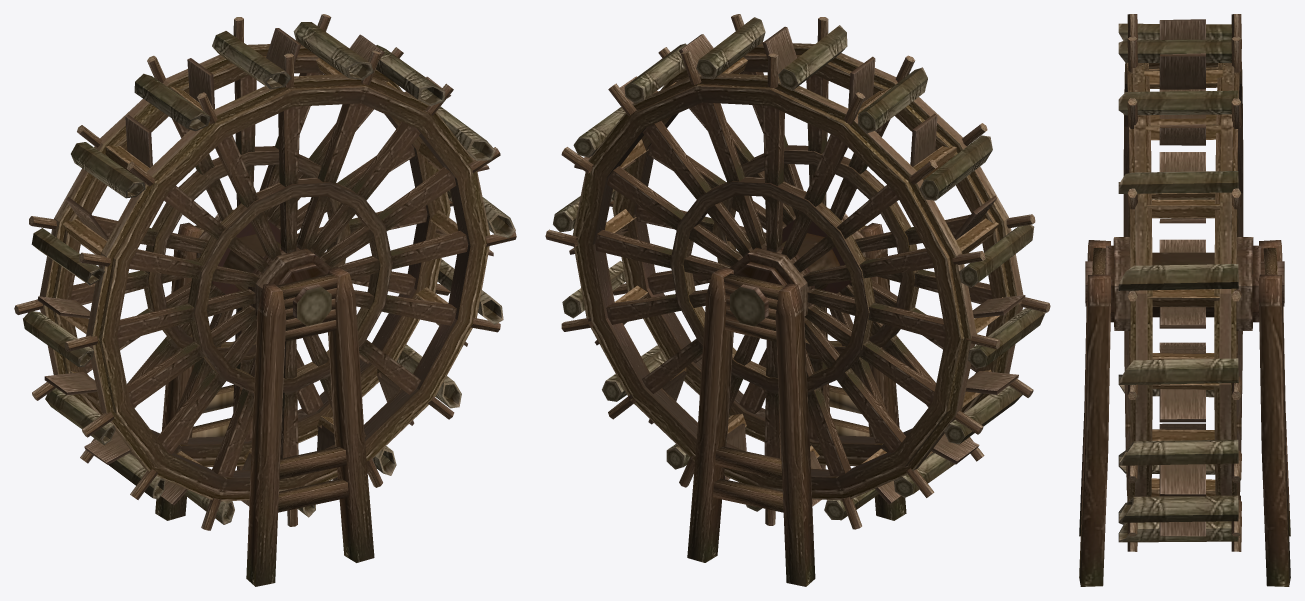
File: C5_WaterWagon_ani.FBX
3 renders of one model, left to right at view 1: azimuth 30°, elevation 25°; view 2: azimuth 150°, elevation 25°; view 3: azimuth 270°, elevation 25°, orthographic. The views are drawn at different scales.
Visible parts, largest first — view 1: C5_WaterWagon_ani, C5_WaterWagon; view 2: C5_WaterWagon_ani, C5_WaterWagon; view 3: C5_WaterWagon_ani, C5_WaterWagon.
Boxes of the visible parts, bbox=[...] form: C5_WaterWagon_ani: bbox=[14, 14, 516, 530]; C5_WaterWagon: bbox=[155, 222, 374, 586]; C5_WaterWagon_ani: bbox=[545, 14, 1050, 529]; C5_WaterWagon: bbox=[687, 223, 906, 586]; C5_WaterWagon_ani: bbox=[1085, 14, 1284, 551]; C5_WaterWagon: bbox=[1079, 240, 1290, 586].
Bounding box in the file's own units: 461 × 489 × 181.
